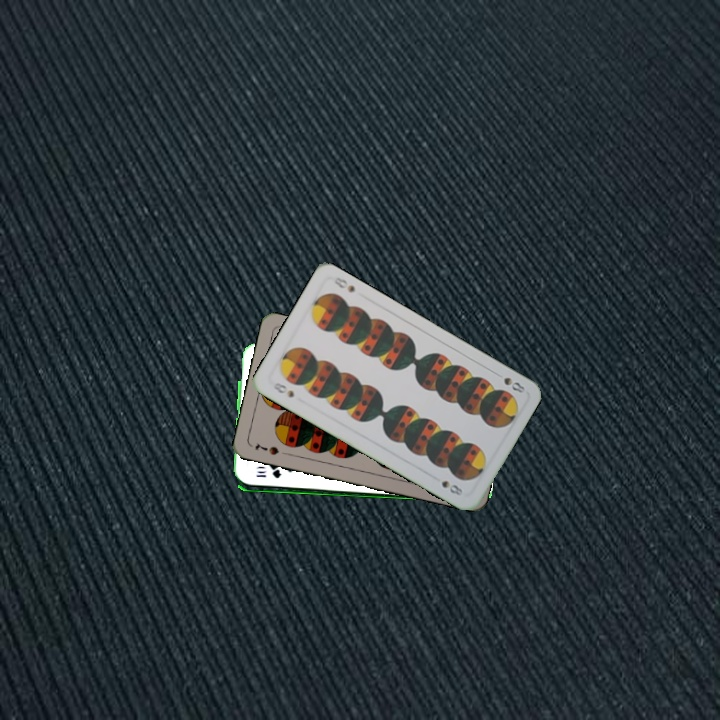G10: (252, 468, 284, 481)
S7: (251, 439, 282, 458)
S8: (491, 368, 527, 396), (269, 379, 297, 400)
